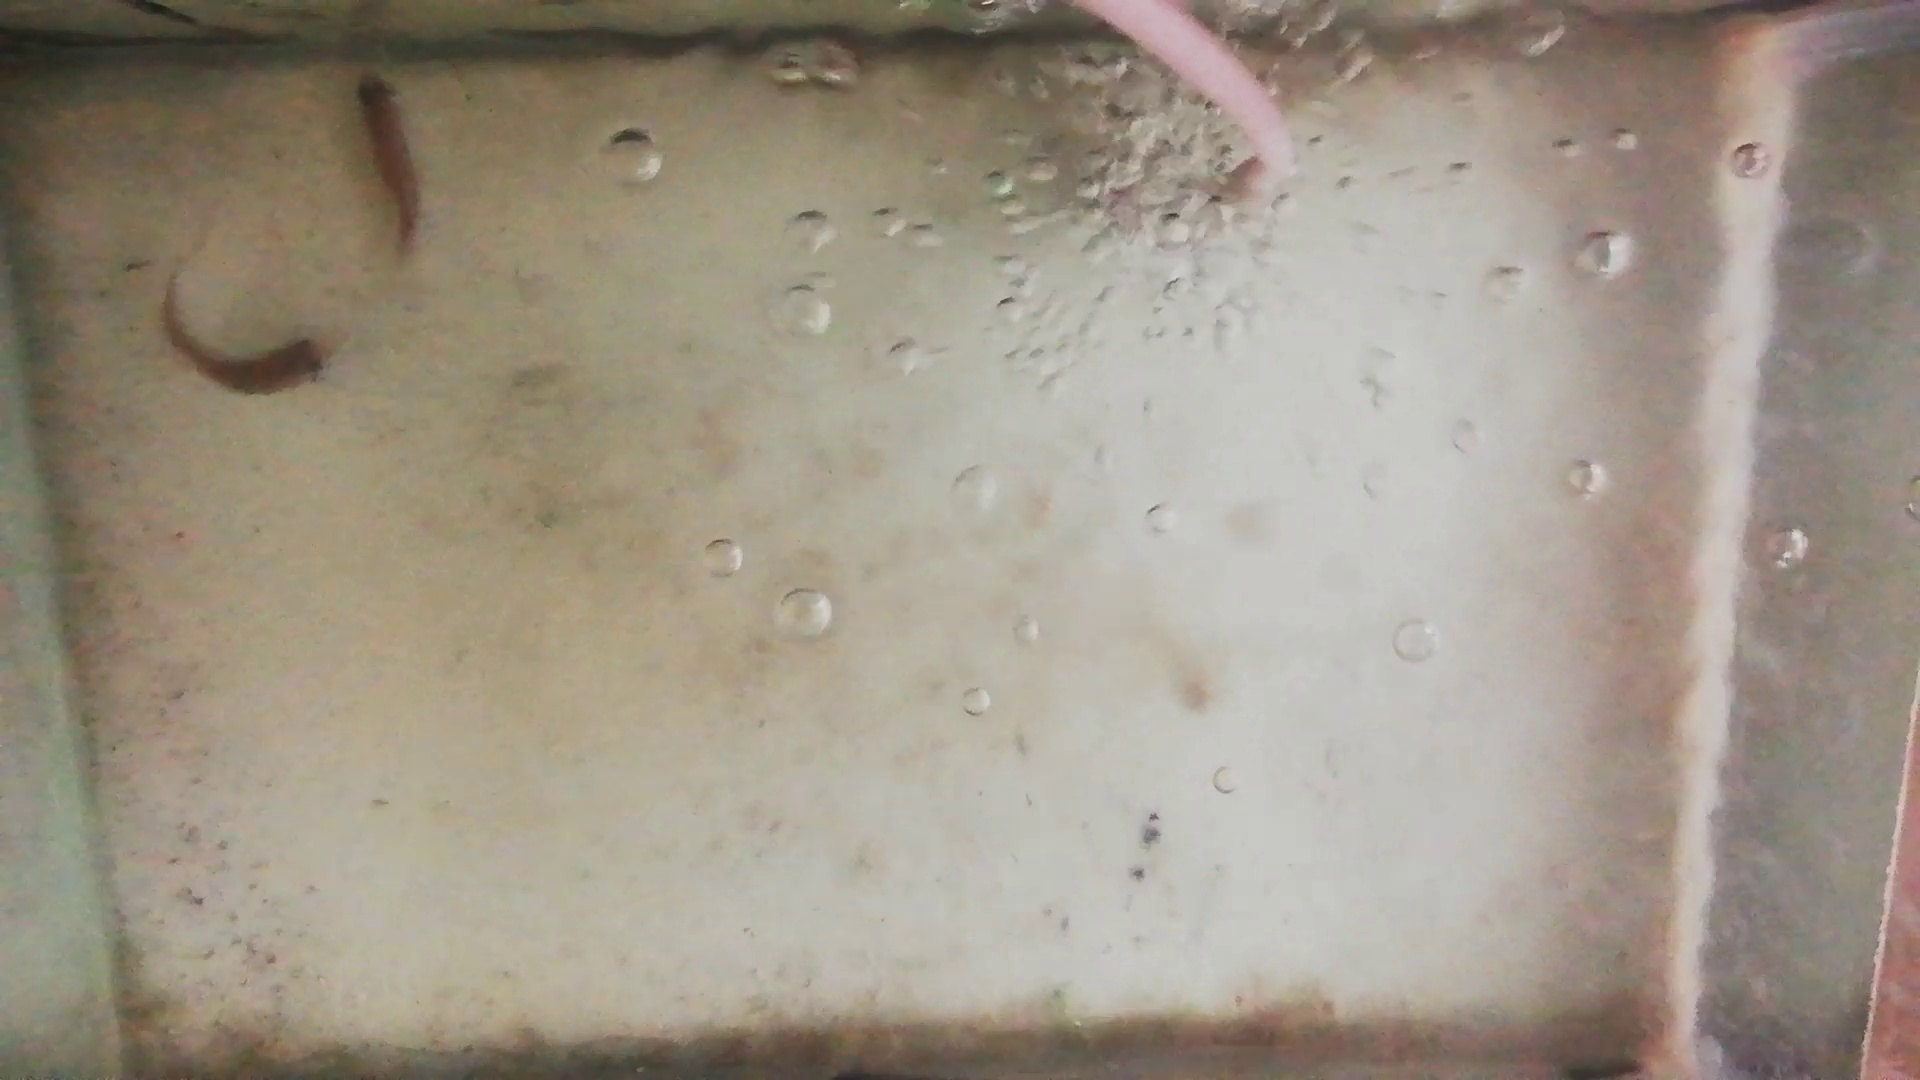fish: (164, 273, 328, 397), (352, 69, 421, 252)
